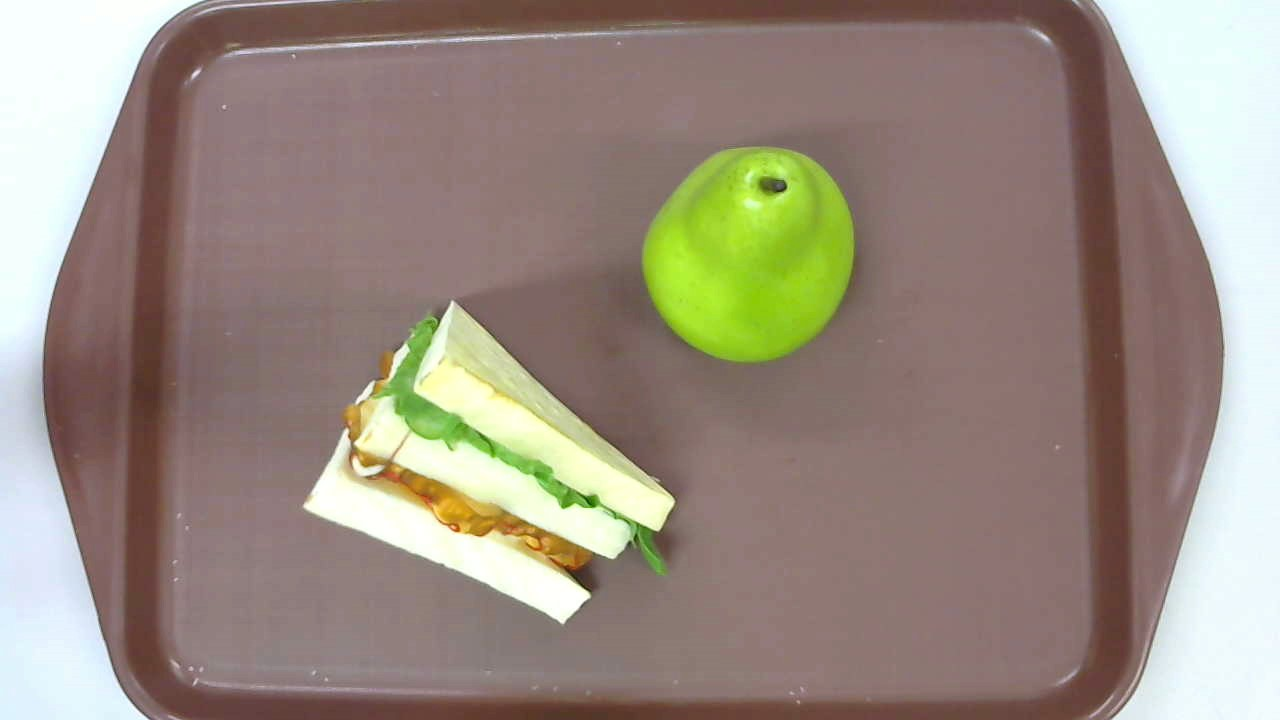green pear: (642, 145, 854, 362)
sandwich: (301, 299, 677, 628)
